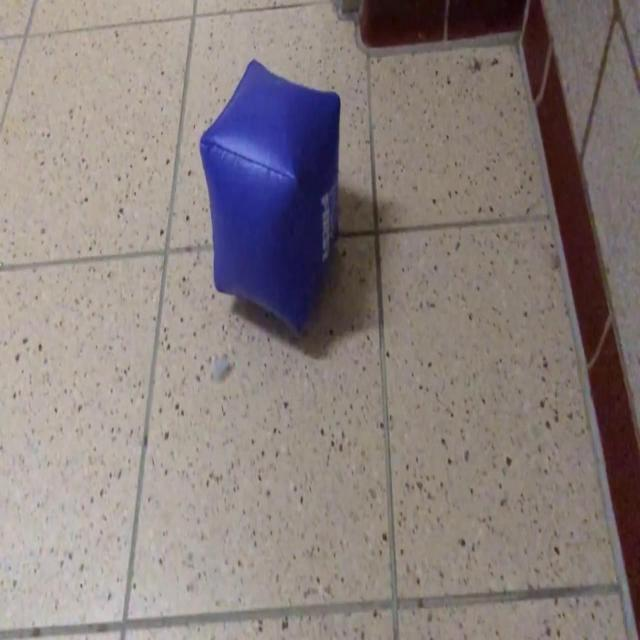frc_cube: (201, 59, 342, 338)
